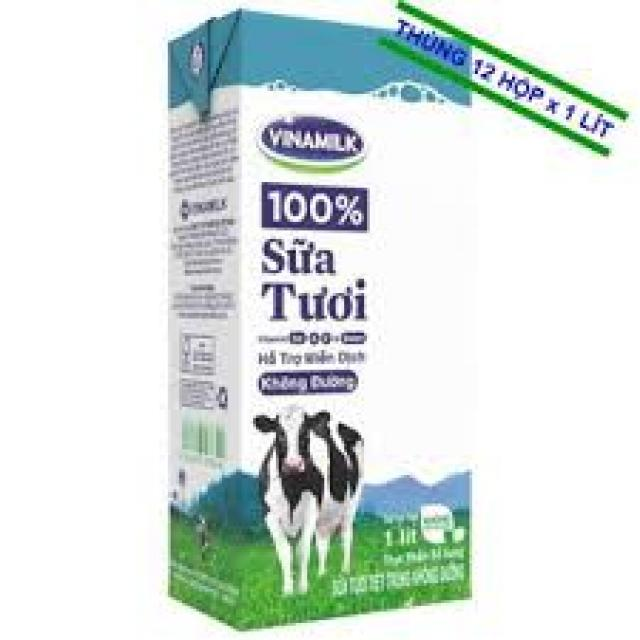non_white_jug: (151, 4, 478, 622)
